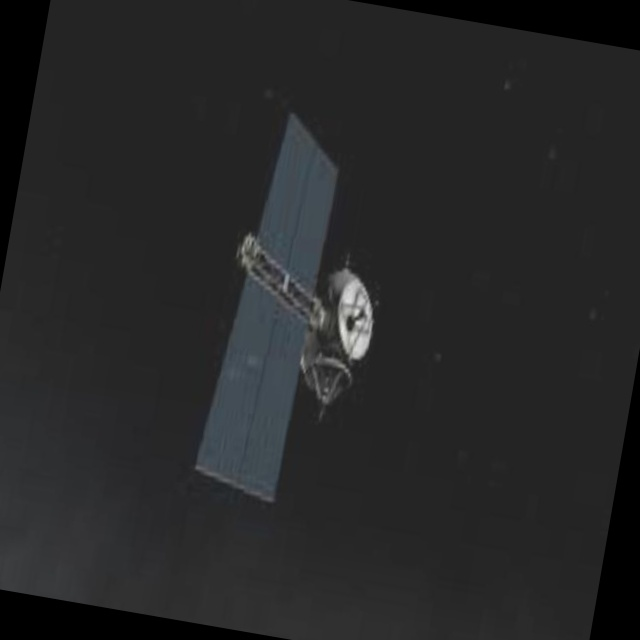medium_debris: (138, 54, 440, 549)
